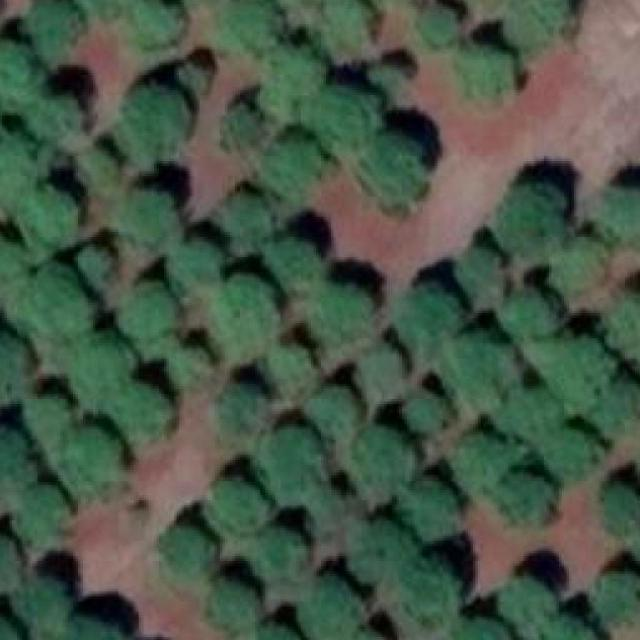Tree: (377, 558, 458, 637), (51, 424, 126, 495), (9, 268, 80, 342), (210, 282, 278, 354), (250, 434, 319, 504), (495, 178, 561, 247), (122, 85, 186, 154), (103, 378, 169, 444), (534, 331, 602, 395), (311, 95, 382, 156), (264, 138, 328, 204), (297, 576, 363, 640), (397, 280, 463, 342), (119, 284, 177, 354), (364, 146, 422, 215), (257, 53, 318, 116), (116, 188, 180, 247), (448, 432, 508, 493), (452, 335, 505, 404), (156, 526, 212, 590), (308, 288, 372, 343), (210, 475, 265, 539), (68, 333, 123, 397), (24, 0, 75, 68), (462, 44, 515, 109), (546, 234, 604, 293), (402, 480, 458, 541), (222, 0, 280, 58), (323, 0, 379, 60), (17, 189, 76, 245), (493, 581, 554, 635), (300, 389, 362, 442), (212, 383, 262, 448), (252, 531, 311, 586), (348, 526, 412, 576), (11, 576, 65, 635), (498, 389, 557, 442), (354, 429, 407, 488), (22, 90, 83, 141), (207, 581, 262, 637), (129, 0, 187, 53), (348, 346, 402, 402), (12, 485, 68, 539), (168, 245, 222, 299), (500, 473, 549, 529), (262, 240, 321, 286), (220, 192, 265, 252), (511, 0, 572, 43), (497, 288, 551, 336), (584, 382, 640, 427), (308, 490, 353, 546), (594, 571, 640, 625), (596, 186, 640, 242), (453, 245, 501, 296), (0, 130, 33, 204), (77, 144, 120, 197), (599, 488, 640, 542), (546, 437, 596, 481), (19, 392, 65, 437), (605, 292, 640, 351), (225, 103, 265, 154), (0, 428, 31, 492), (0, 38, 31, 102), (399, 392, 448, 432), (414, 2, 460, 43), (171, 346, 215, 387), (78, 242, 118, 286), (0, 331, 23, 397), (53, 613, 109, 640), (537, 618, 603, 640), (0, 240, 26, 295), (270, 343, 306, 382), (0, 535, 23, 591), (73, 0, 144, 16), (448, 622, 508, 640), (176, 63, 210, 93), (371, 65, 404, 93), (465, 0, 515, 14)
